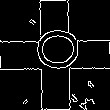O_W: (29, 33, 81, 77)
